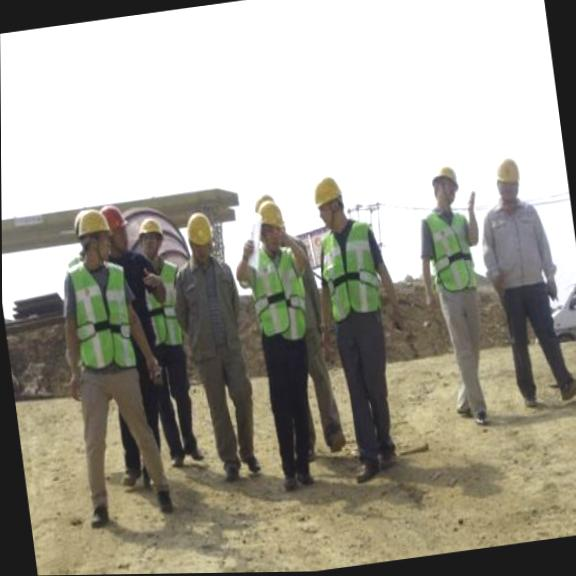no_safety_vest: (172, 253, 249, 361), (476, 199, 559, 295)
safety_vest: (57, 257, 145, 373), (310, 212, 396, 317), (241, 238, 314, 340), (414, 206, 481, 291), (136, 253, 190, 346)
